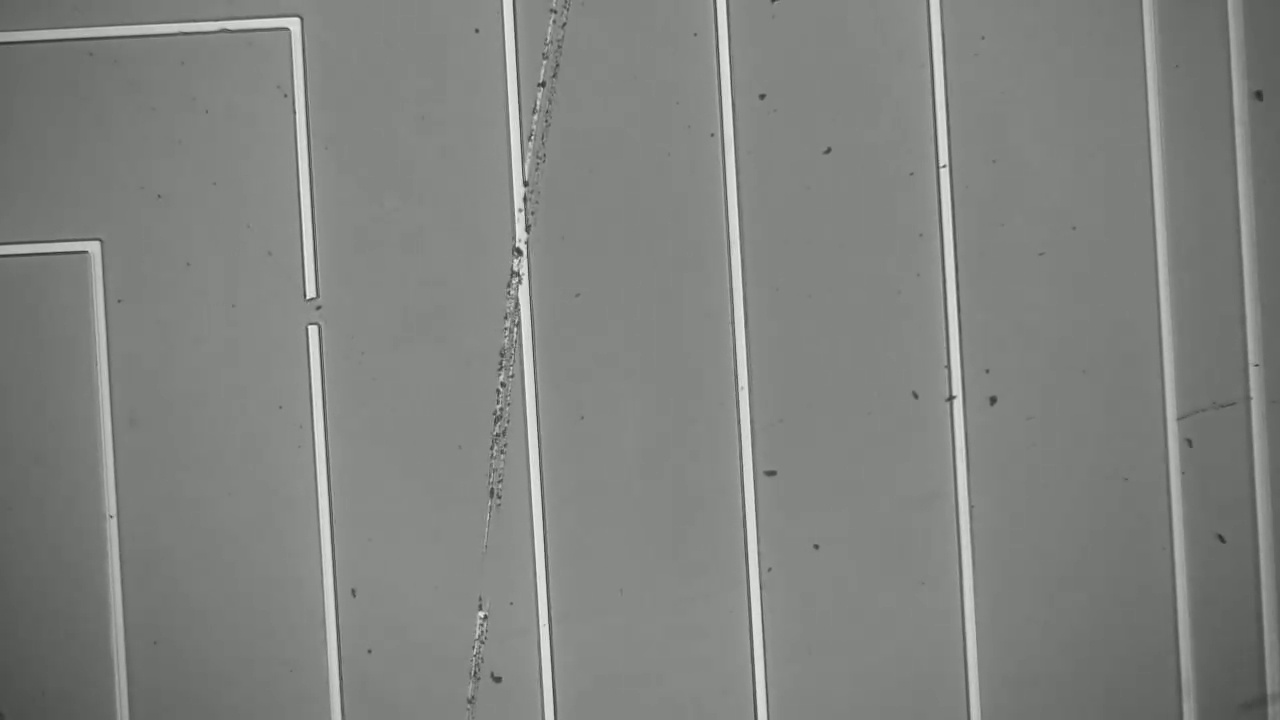open: (295, 286, 332, 350)
scratch: (453, 2, 569, 716), (1176, 386, 1245, 438)
